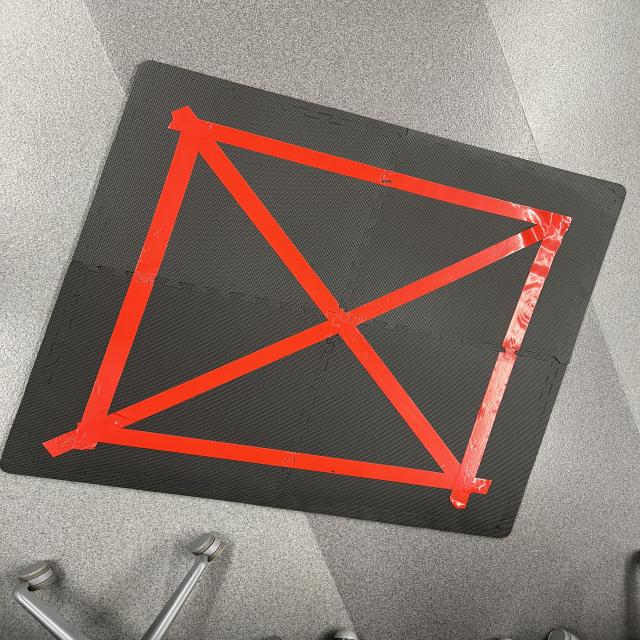landingPads: (4, 60, 624, 538)
